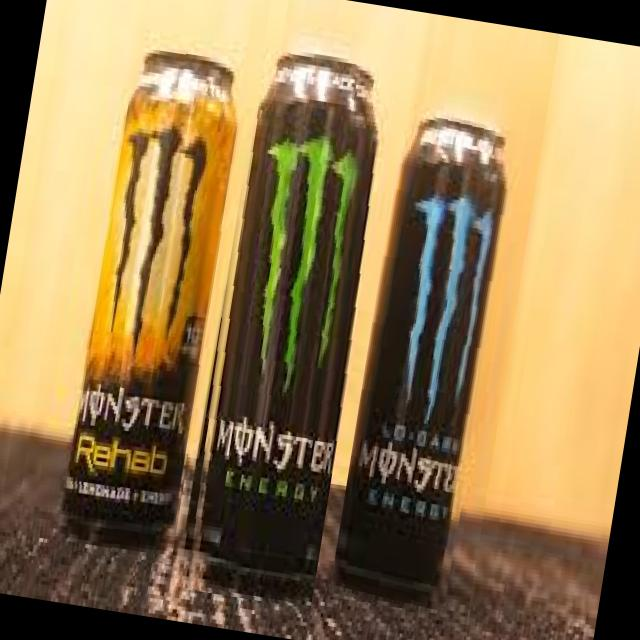Cans: (170, 33, 398, 609), (39, 14, 255, 568), (329, 88, 531, 616)
